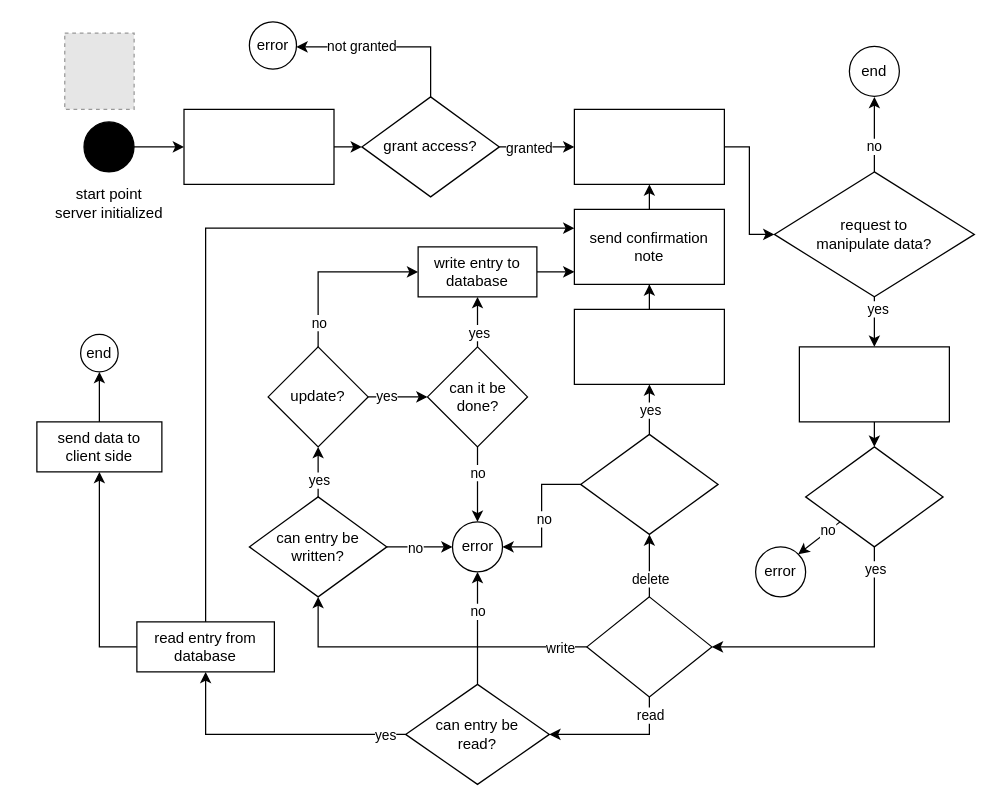
Image size: 996x806. Some labels were removed from this diagram. Grey dashed boxes stand in for pictures. The shapes that lost their labels are listed below. From the top down, each one's centre as x and y in pixels, then its label:
At point 258,146: "request access to database".
At point 648,146: "access to database".
At point 648,346: "remove entry from database".
At point 873,384: "incoming request to manipulate data".
At point 648,483: "can entry be deleted?".
At point 873,496: "can request be processed?".
At point 649,646: "what kind of request?".
